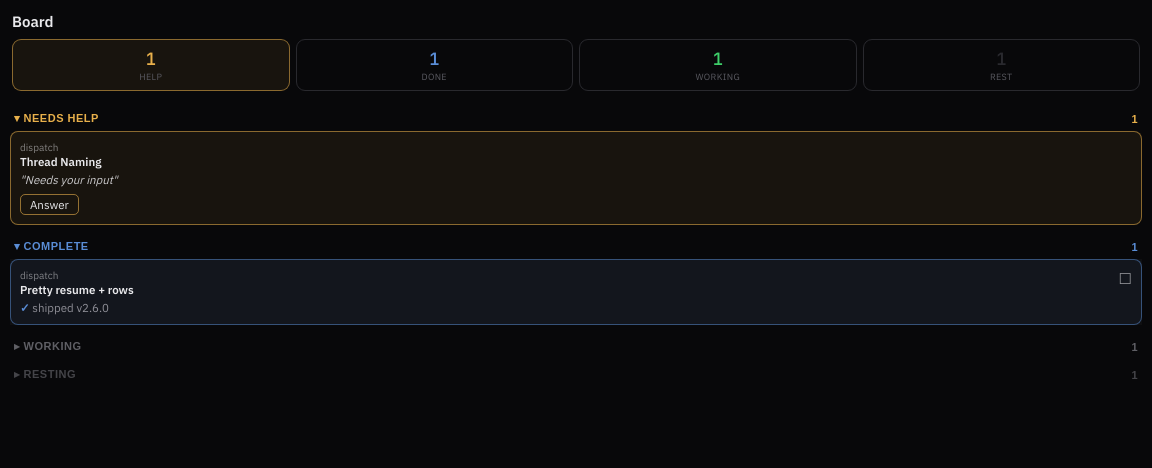
Test: BoardMobile — tapping a header toggles expansion › tapping the collapsed Working header expands it, revealing its card
expect the text "Integrate wave 9" is not shown: met
Click the button with test id "board-section-toggle-working": x=53, y=346 [10,331,1142,359]
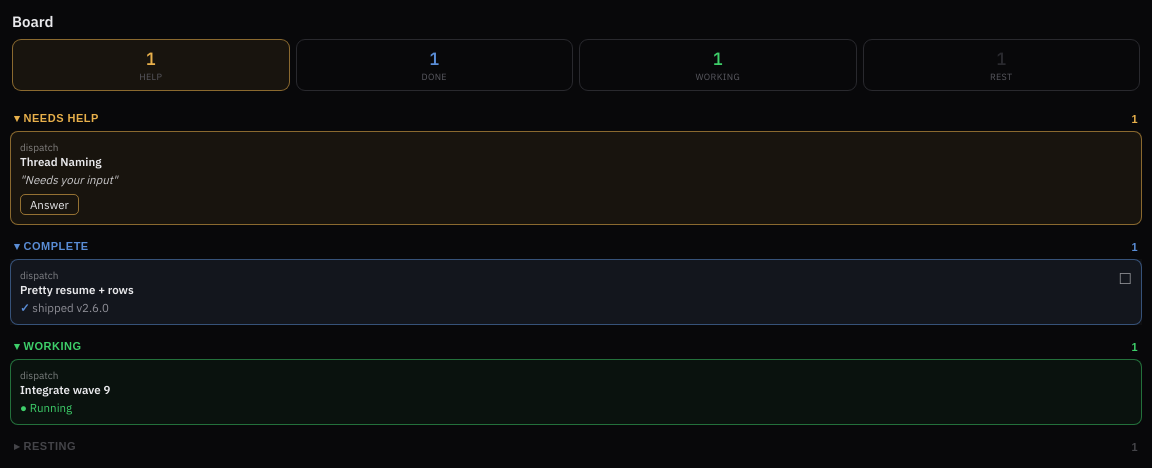
expect the text "Integrate wave 9" is shown: met, box [20,382,110,397]
